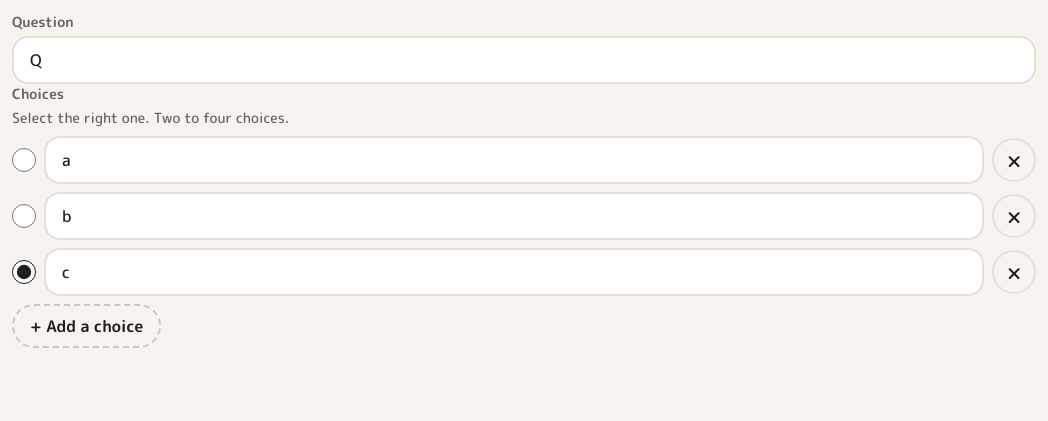
Scenario: the pick_one form › adding and removing choices keeps the right answer on its row and stops at 4 and 2
Later steps or results of the test are not shown.
Click the button named "Remove choice 1". click: x=1014, y=160
box: [992,138,1036,182]
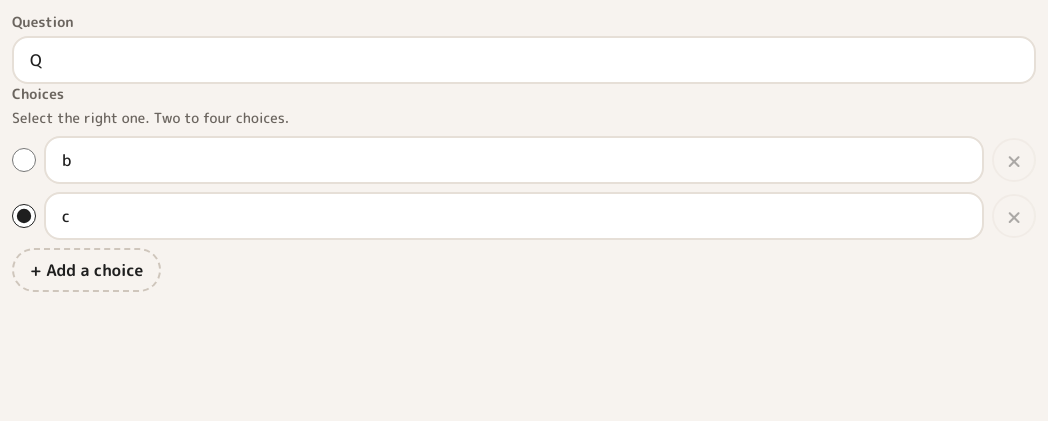
Expected: the button named "Remove choice 1" is disabled, [992,138,1036,182]
Click the button "+ Add a choice". click: x=87, y=270
box: [12,248,161,292]
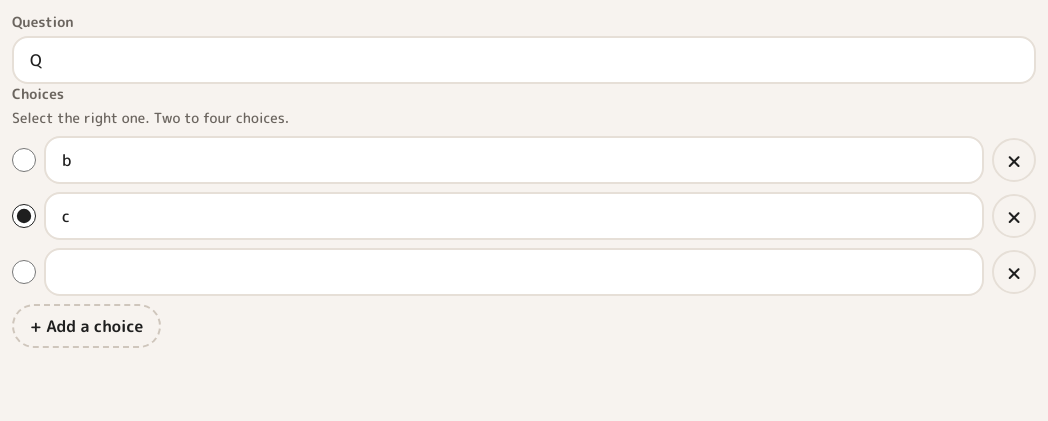
Click the button "+ Add a choice". click: x=87, y=326
box: [12,304,161,348]
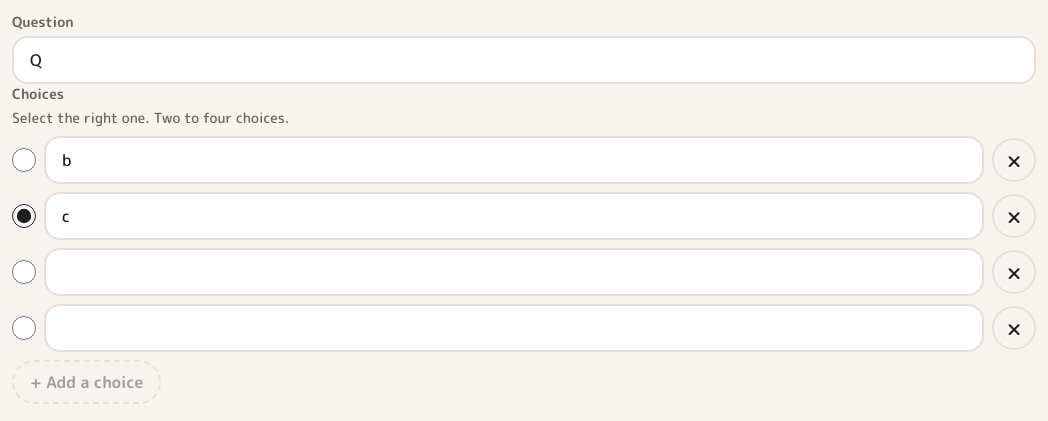
Expected: the button "+ Add a choice" is disabled, [12,360,161,404]
